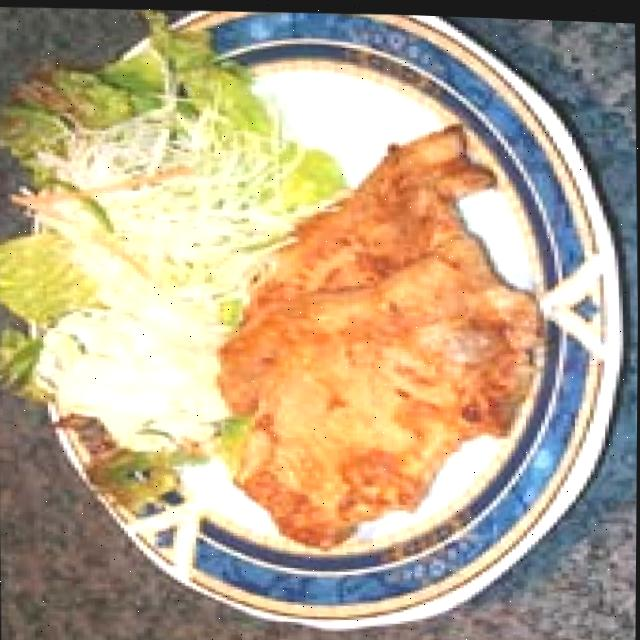猪肉菜式: (29, 1, 553, 556)
